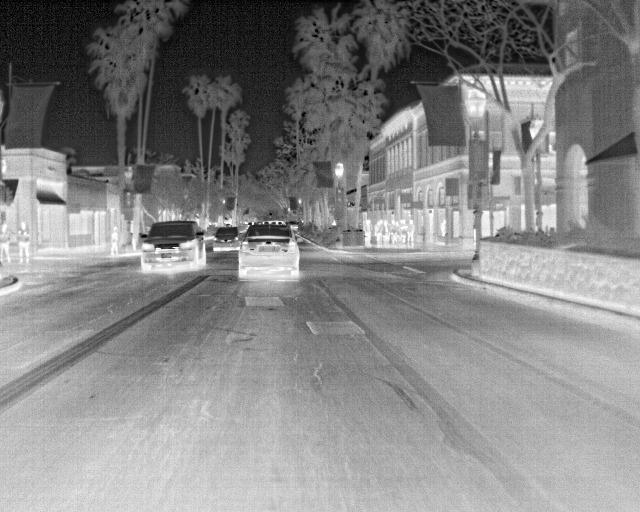bicycle: (238, 219, 302, 282), (136, 220, 210, 274), (212, 224, 241, 253), (286, 220, 300, 235)
empty: (15, 222, 31, 264), (0, 222, 15, 265), (404, 217, 418, 248), (361, 217, 375, 247), (373, 217, 386, 249)
